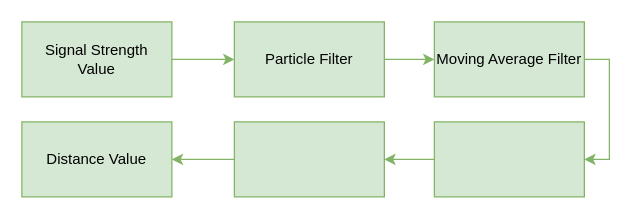
Image size: 641x219. Some labels were removed from this diagram. The box of each missing label's shape, as (x1, y1, x2, y2) in pixels:
FFNN Model: (233, 121, 384, 197)
LSTM Model: (433, 121, 584, 197)
